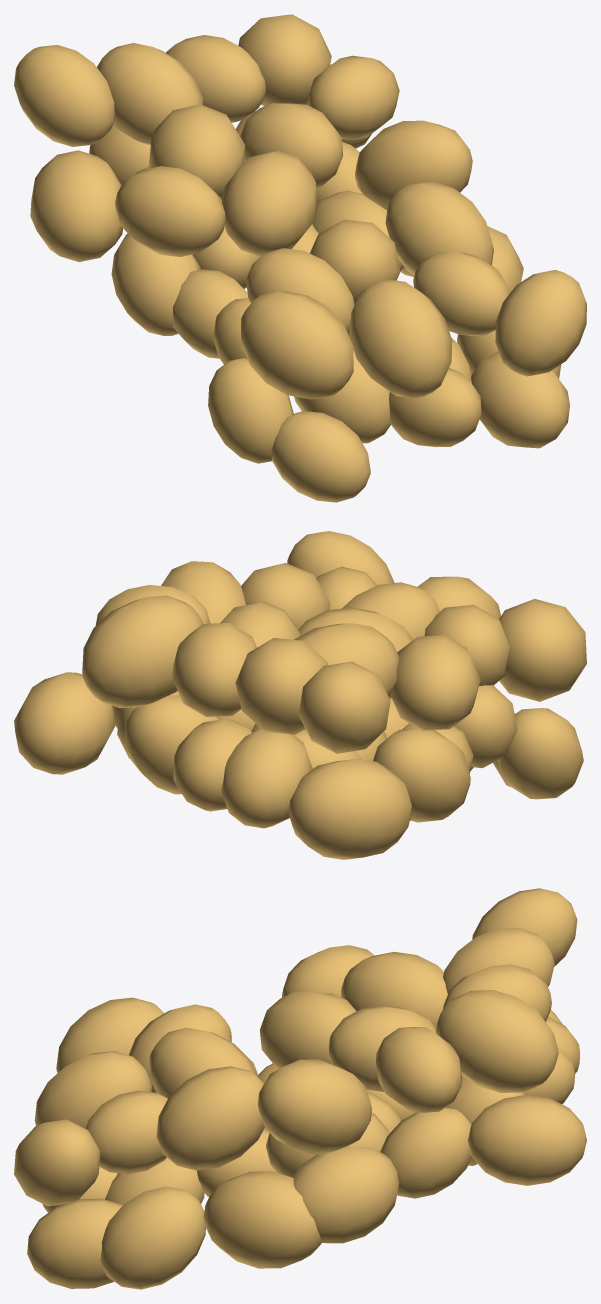
File: potatoes.fbx
3 views of the same model, one above another, from view 1: azimuth 30°, elevation 25°; view 2: azimuth 150°, elevation 25°; view 3: azimuth 270°, elevation 25° (orthographic). The views are drawn at different scales.
Parts seen in each view (by area): view 1: Sphere.095; view 2: Sphere.095; view 3: Sphere.095.
Boxes of the visible parts, x1=… form: Sphere.095: x1=14, y1=14, x2=586, y2=502; Sphere.095: x1=14, y1=531, x2=586, y2=859; Sphere.095: x1=14, y1=888, x2=586, y2=1289.
Bounding box in the file's own units: 38.48 × 29.72 × 53.4.
